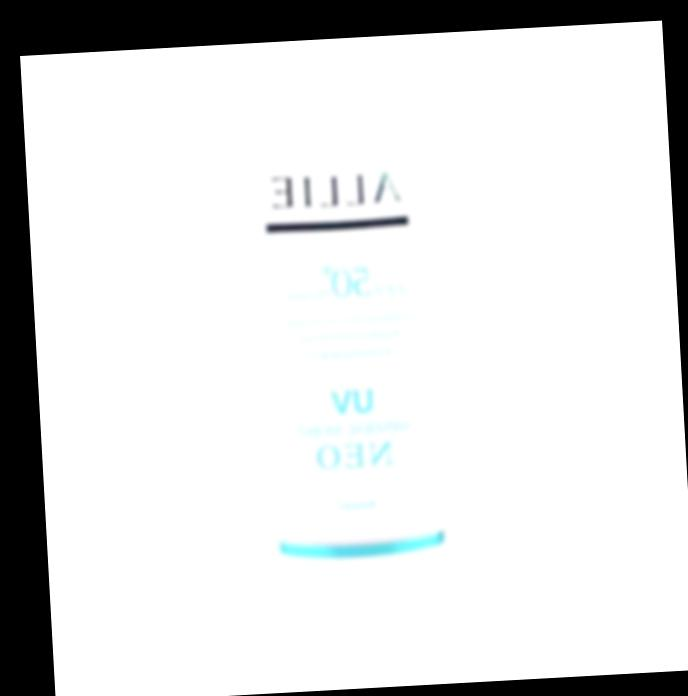cosmetic: (218, 68, 482, 653)
